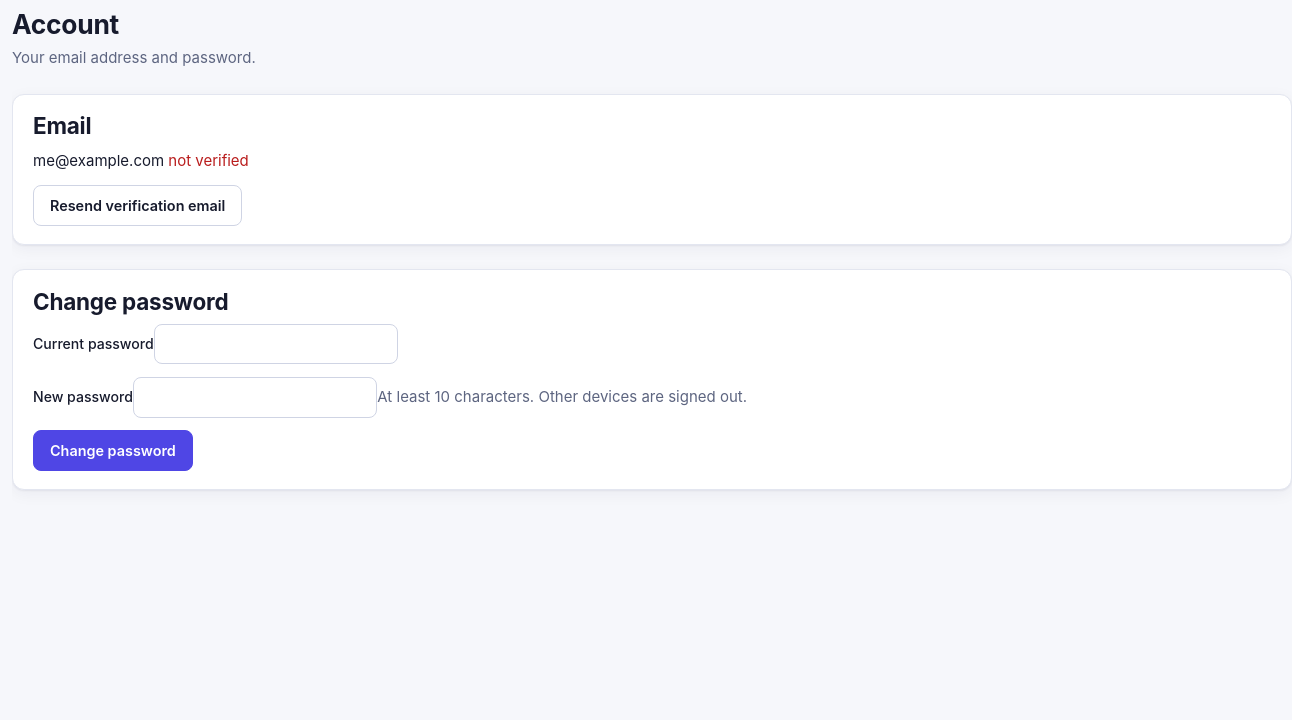
it: AccountPage › lets an unverified user resend the email
Click the button "Resend verification email" at (138, 206), box [33,185,242,226]
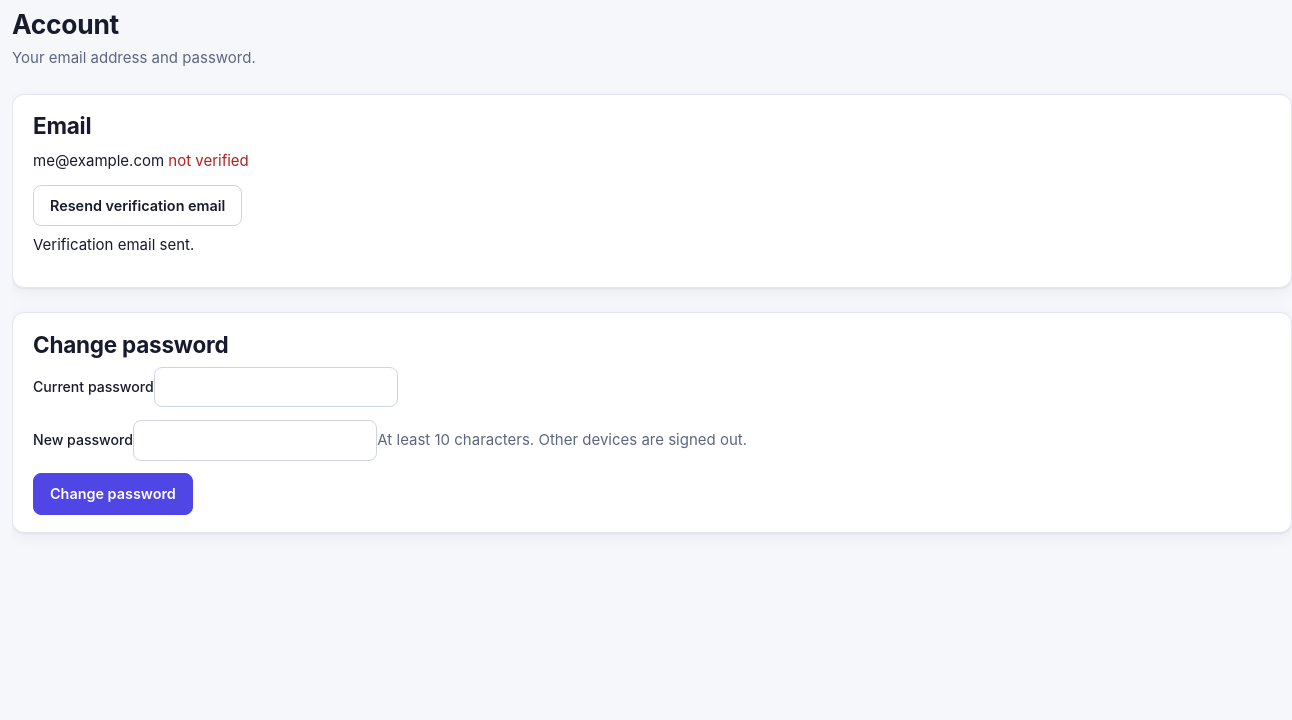
Result: the text "Verification email sent." is shown at [33,235,194,254]
